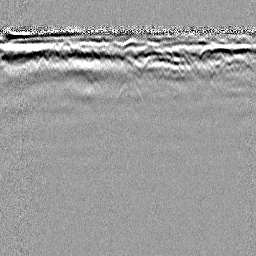cavity: (113, 78, 145, 102)
